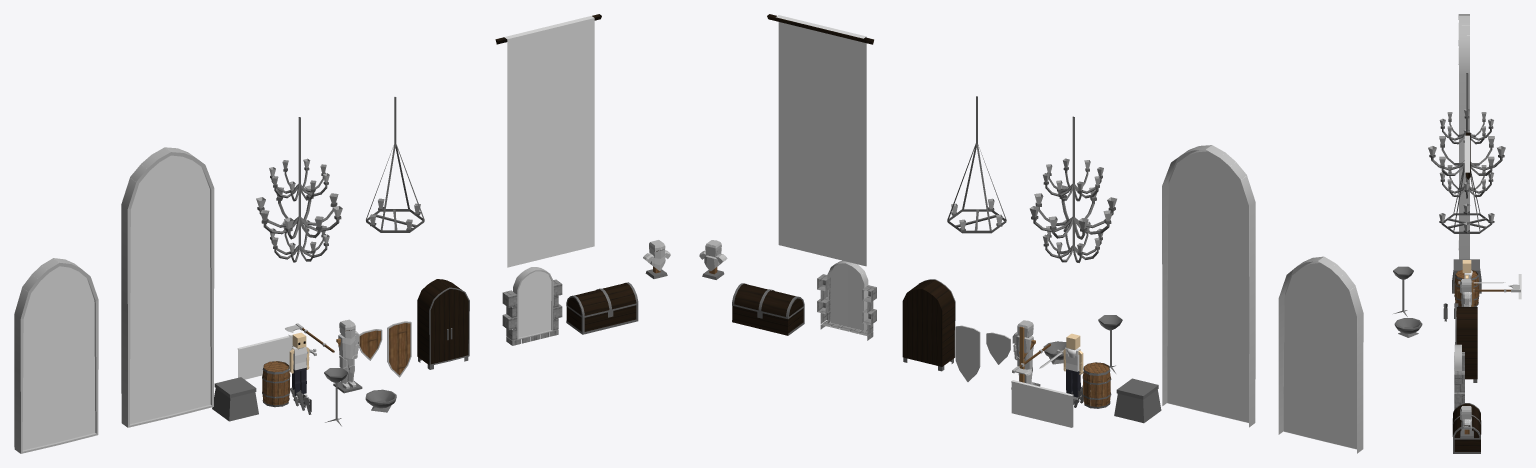
File: Props.fbx
The picture shows the model from 3 angles, left to right: view 1: azimuth 30°, elevation 25°; view 2: azimuth 150°, elevation 25°; view 3: azimuth 270°, elevation 25°; orthographic projection. The views are drawn at different scales.
Visible parts, largest first — view 1: BigWindow.LOD0, Banner.LOD0, MediumWindow.LOD0, Closet_LOD0, Window_LOD0, chandelierB.LOD0, SmallClosetB_LOD0, Desk, Railing.LOD0, chandelier.LOD0, SmallCloset_LOD0, Barrel (+3 smaller); view 2: BigWindow.LOD0, Banner.LOD0, MediumWindow.LOD0, Closet_LOD0, chandelierB.LOD0, Window_LOD0, Railing.LOD0, SmallClosetB_LOD0, Desk, chandelier.LOD0, Barrel, SmallCloset_LOD0 (+3 smaller); view 3: chandelierB.LOD0, BigWindow.LOD0, Closet_LOD0, chandelier.LOD0, Window_LOD0, SmallClosetB_LOD0, Barrel, SmallCloset_LOD0, FireSupport2.LOD0, Bust, Desk, FireSupport.LOD0 (+4 smaller).
Part boxes in pixels (bbox=[...]): BigWindow.LOD0: bbox=[121, 147, 214, 427]; Banner.LOD0: bbox=[495, 14, 601, 267]; MediumWindow.LOD0: bbox=[14, 258, 98, 453]; Closet_LOD0: bbox=[417, 279, 469, 369]; Window_LOD0: bbox=[502, 267, 562, 345]; chandelierB.LOD0: bbox=[256, 117, 342, 262]; SmallClosetB_LOD0: bbox=[566, 282, 638, 318]; Desk: bbox=[212, 377, 258, 421]; Railing.LOD0: bbox=[237, 335, 292, 379]; chandelier.LOD0: bbox=[366, 97, 424, 232]; SmallCloset_LOD0: bbox=[566, 305, 638, 334]; Barrel: bbox=[262, 361, 290, 407]; BigWindow.LOD0: bbox=[1162, 145, 1255, 427]; Banner.LOD0: bbox=[767, 14, 873, 266]; MediumWindow.LOD0: bbox=[1278, 256, 1363, 453]; Closet_LOD0: bbox=[902, 279, 955, 371]; chandelierB.LOD0: bbox=[1029, 116, 1116, 262]; Window_LOD0: bbox=[817, 260, 876, 340]; Railing.LOD0: bbox=[1011, 380, 1073, 427]; SmallClosetB_LOD0: bbox=[732, 283, 804, 318]; Desk: bbox=[1114, 378, 1161, 423]; chandelier.LOD0: bbox=[947, 96, 1006, 233]; Barrel: bbox=[1082, 362, 1111, 408]; SmallCloset_LOD0: bbox=[732, 305, 804, 335]; chandelierB.LOD0: bbox=[1428, 73, 1505, 198]; BigWindow.LOD0: bbox=[1458, 14, 1469, 259]; Closet_LOD0: bbox=[1455, 307, 1477, 382]; chandelier.LOD0: bbox=[1439, 116, 1494, 233]; Window_LOD0: bbox=[1454, 344, 1464, 409]; SmallClosetB_LOD0: bbox=[1452, 403, 1481, 439]; Barrel: bbox=[1454, 270, 1479, 306]; SmallCloset_LOD0: bbox=[1453, 439, 1480, 453]; FireSupport2.LOD0: bbox=[1394, 318, 1422, 337]; Bust: bbox=[1460, 406, 1473, 438]; Desk: bbox=[1452, 259, 1481, 293]; FireSupport.LOD0: bbox=[1393, 266, 1413, 316].
Size of what is drawn, in the model's own units: 12274 by 5684 by 2435.
